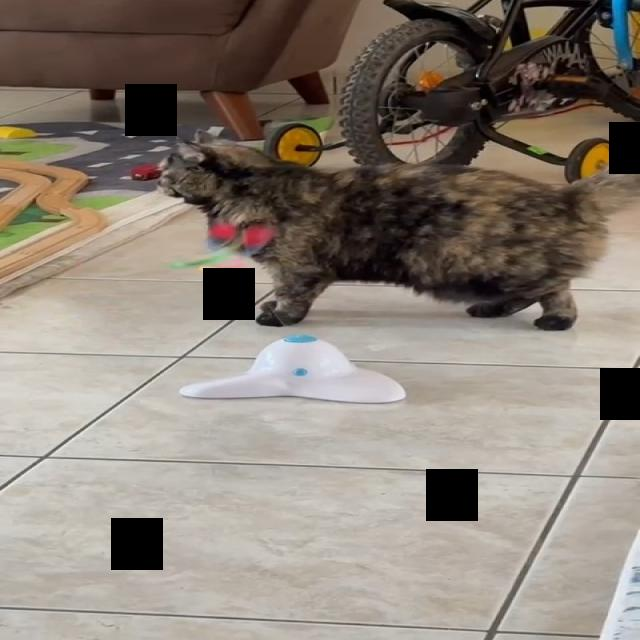authorized: (154, 130, 638, 330)
